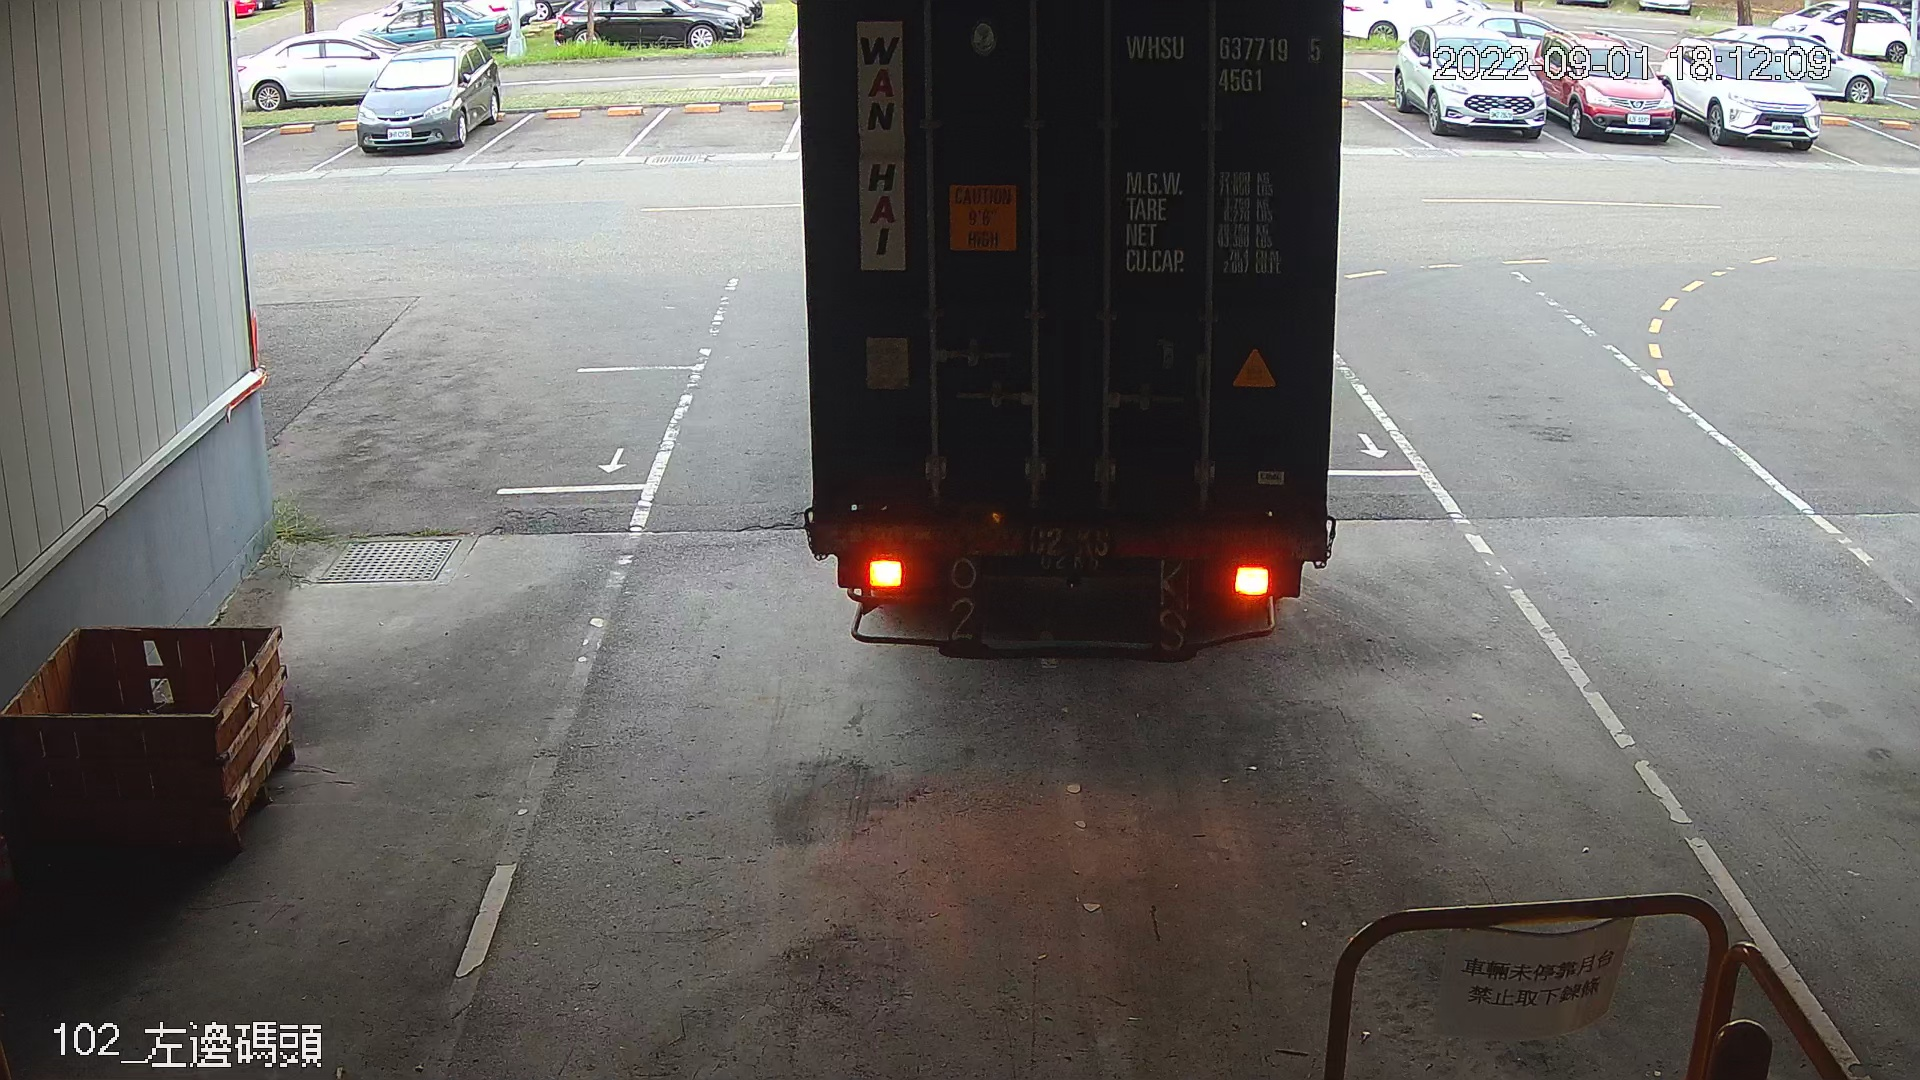container: (1116, 20, 1335, 102)
